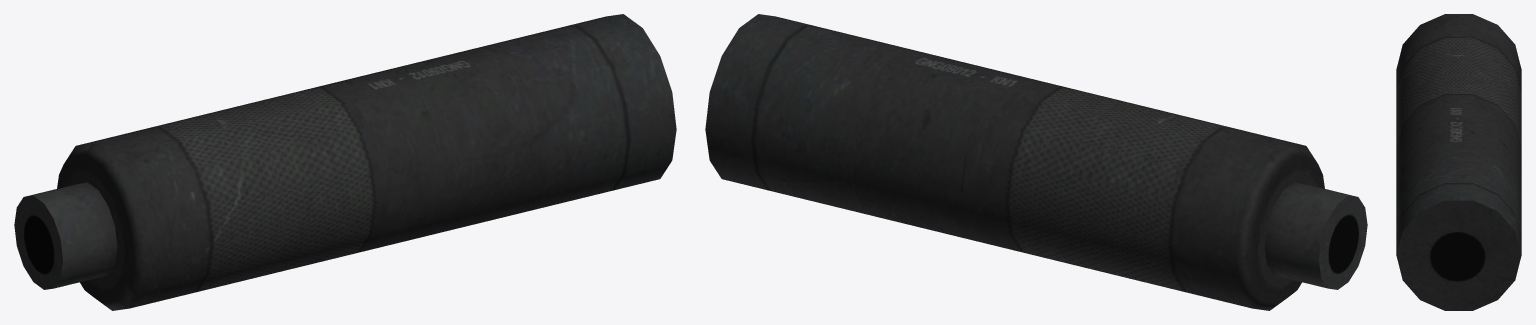
The model's file is t6_attach_smg_silencer1_view_LOD0.obj.
3 renders of one model, left to right at view 1: azimuth 30°, elevation 25°; view 2: azimuth 150°, elevation 25°; view 3: azimuth 270°, elevation 25°, orthographic. The views are drawn at different scales.
Visible parts, largest first — view 1: mtl_t6_attach_smg_silencer1; view 2: mtl_t6_attach_smg_silencer1; view 3: mtl_t6_attach_smg_silencer1.
Boxes of the visible parts, left/top/right/bottom form: mtl_t6_attach_smg_silencer1: left=14, top=14, right=676, bottom=310; mtl_t6_attach_smg_silencer1: left=705, top=14, right=1367, bottom=310; mtl_t6_attach_smg_silencer1: left=1396, top=14, right=1521, bottom=310.
Bounding box in the file's own units: 18.81 × 4.64 × 4.76.
